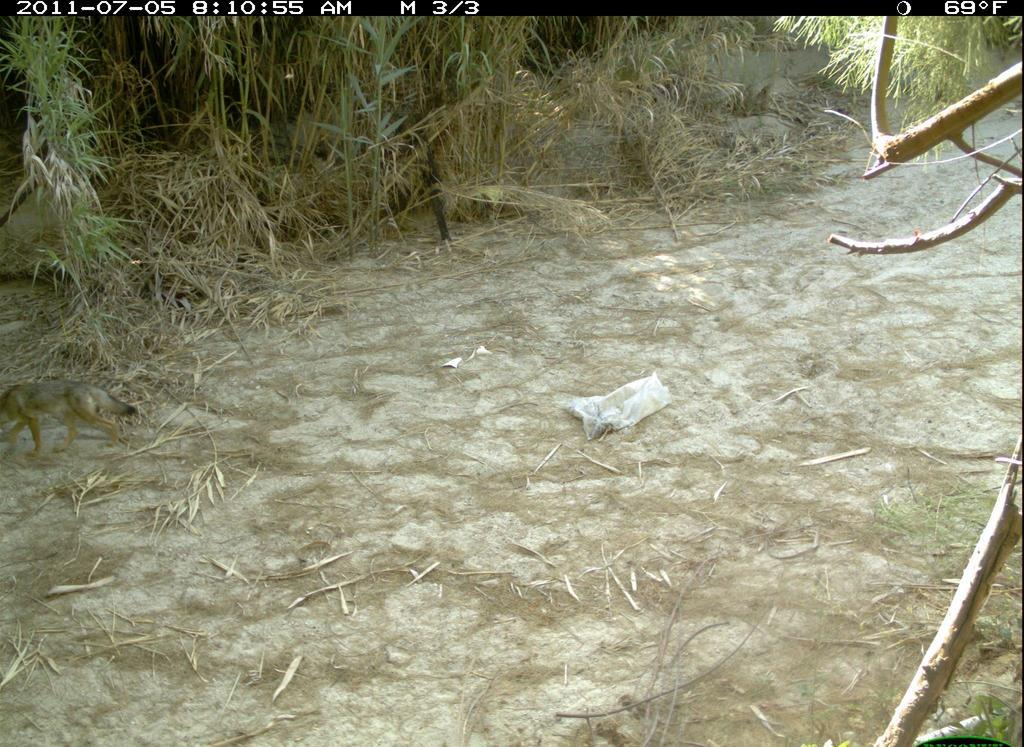coyote: (2, 377, 141, 464)
